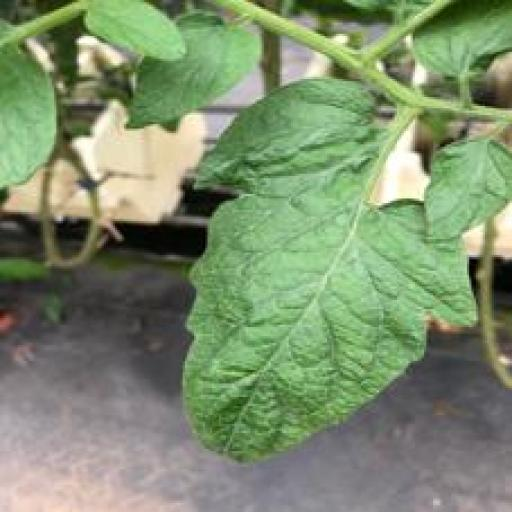Healthy: (180, 76, 482, 462), (124, 7, 266, 130), (423, 127, 512, 243)
